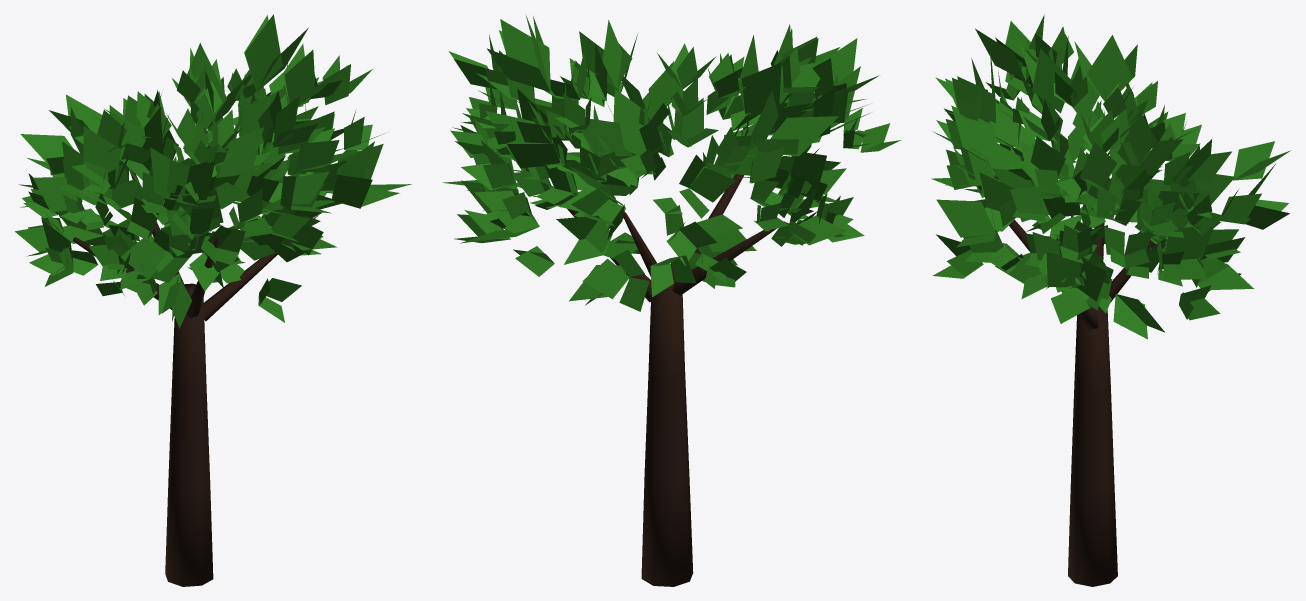
File: Tree_10_C_LOD1.obj
3 renders of one model, left to right at view 1: azimuth 30°, elevation 25°; view 2: azimuth 150°, elevation 25°; view 3: azimuth 270°, elevation 25°, orthographic. The views are drawn at different scales.
Parts seen in each view (by area): view 1: Leaves, Trunk; view 2: Leaves, Trunk; view 3: Leaves, Trunk.
Part boxes in pixels (<box>): Leaves: <box>15,14,411,328</box>; Trunk: <box>73,169,277,586</box>; Leaves: <box>442,15,901,311</box>; Trunk: <box>567,174,776,586</box>; Leaves: <box>931,14,1290,339</box>; Trunk: <box>978,185,1156,586</box>.
Size of the model in its own units: 7.76 by 10.29 by 6.51.
